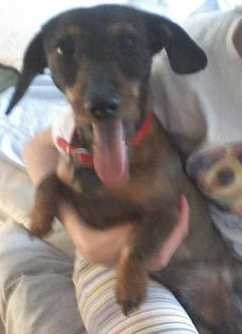dog: (4, 0, 242, 289)
